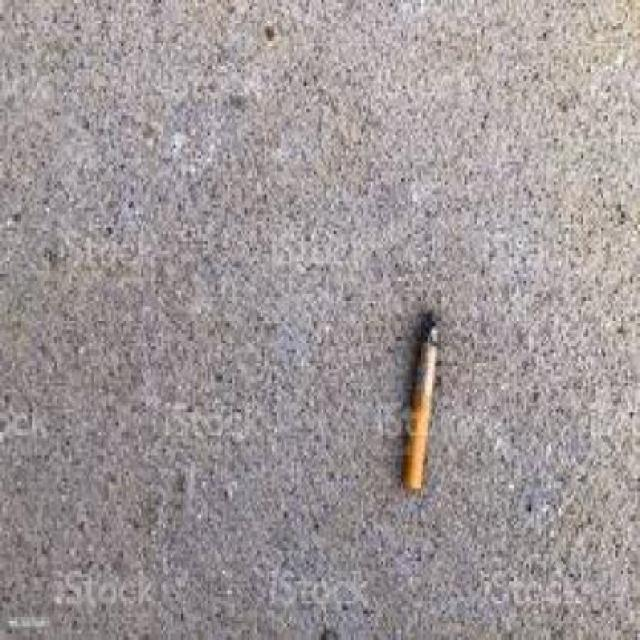cigarette: (407, 329, 442, 500)
